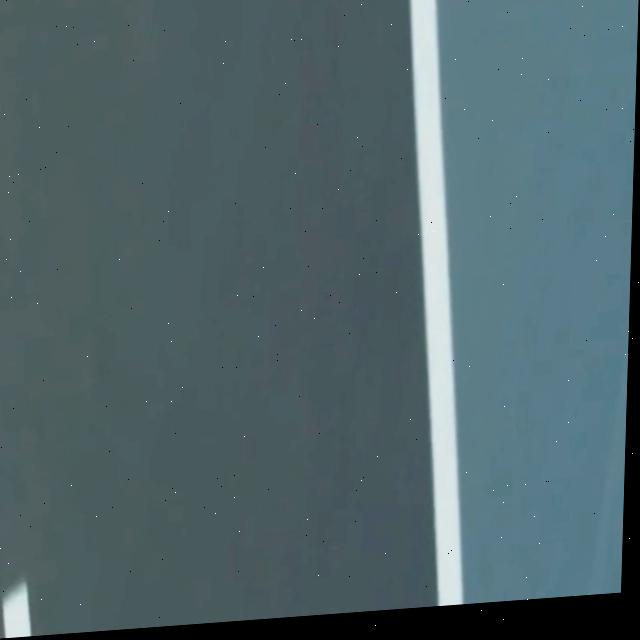center: (4, 581, 32, 638)
left: (411, 0, 464, 606)
